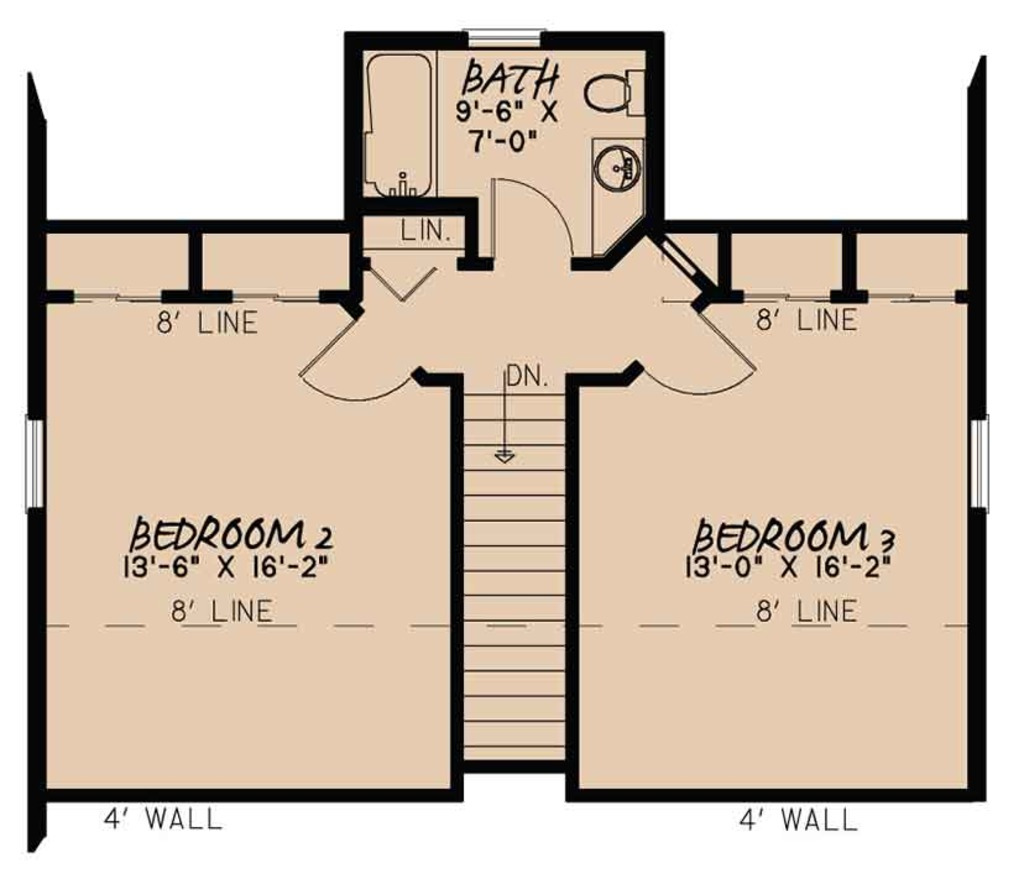door: (633, 313, 762, 394), (482, 169, 577, 272), (305, 321, 416, 396)
small_sink: (583, 134, 648, 215)
stairs: (447, 373, 583, 764), (571, 54, 644, 125)
tub: (358, 49, 436, 198)
window: (21, 413, 52, 514), (966, 414, 993, 513)
